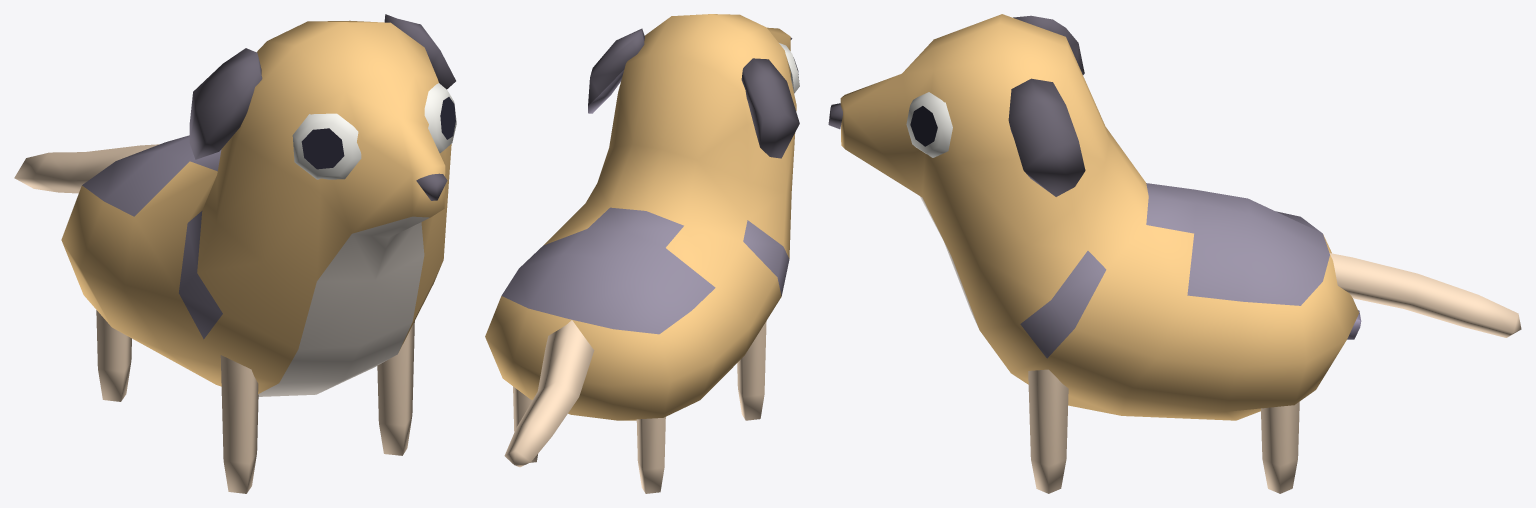
Rendered from Dog_LOD3.obj.
3 views of the same model, side by side, from view 1: azimuth 30°, elevation 25°; view 2: azimuth 150°, elevation 25°; view 3: azimuth 270°, elevation 25° (orthographic). The views are drawn at different scales.
Visible parts, largest first — view 1: Dog_Cube.002; view 2: Dog_Cube.002; view 3: Dog_Cube.002.
Boxes of the visible parts, <box> form: Dog_Cube.002: <box>14,14,456,493</box>; Dog_Cube.002: <box>485,14,799,493</box>; Dog_Cube.002: <box>828,14,1521,493</box>.
Size of the model in its own units: 1.25 by 2.06 by 3.
